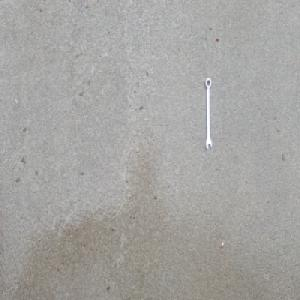Wrench: (204, 76, 212, 150)
